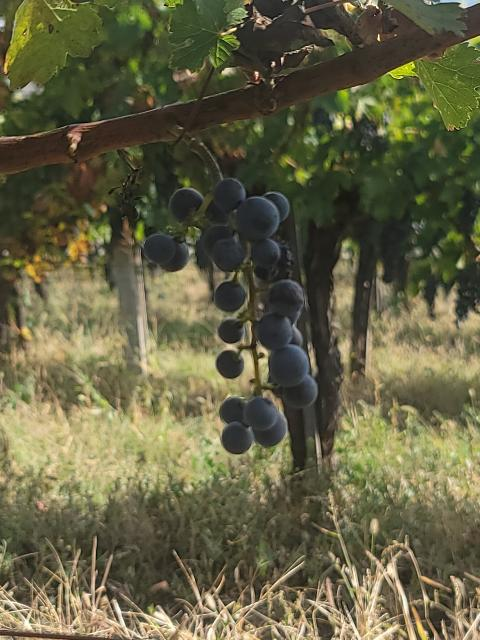grapes: (169, 178, 319, 454)
